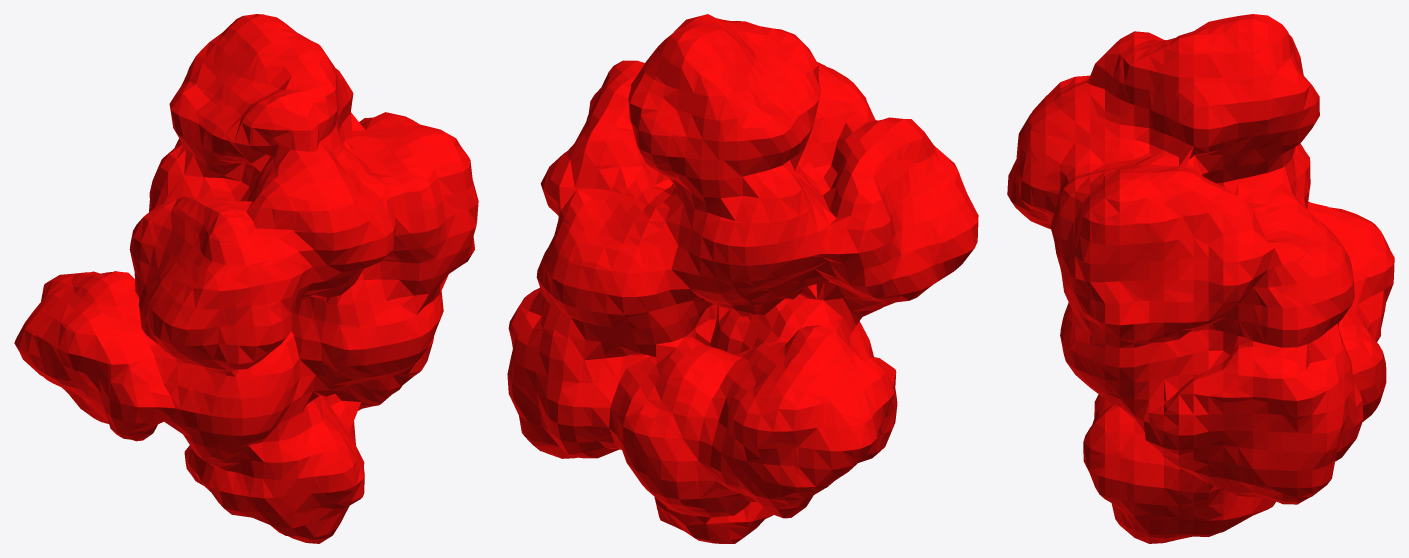
The model's file is ybgI_coarse.dae.
3 views of the same model, side by side, from view 1: azimuth 30°, elevation 25°; view 2: azimuth 150°, elevation 25°; view 3: azimuth 270°, elevation 25° (orthographic). The views are drawn at different scales.
Parts seen in each view (by area): view 1: ybgI; view 2: ybgI; view 3: ybgI.
Part boxes in pixels (<box>): ybgI: <box>14,14,478,543</box>; ybgI: <box>507,14,978,543</box>; ybgI: <box>1007,14,1394,543</box>.
Bounding box in the file's own units: 91.71 × 121 × 81.73.
